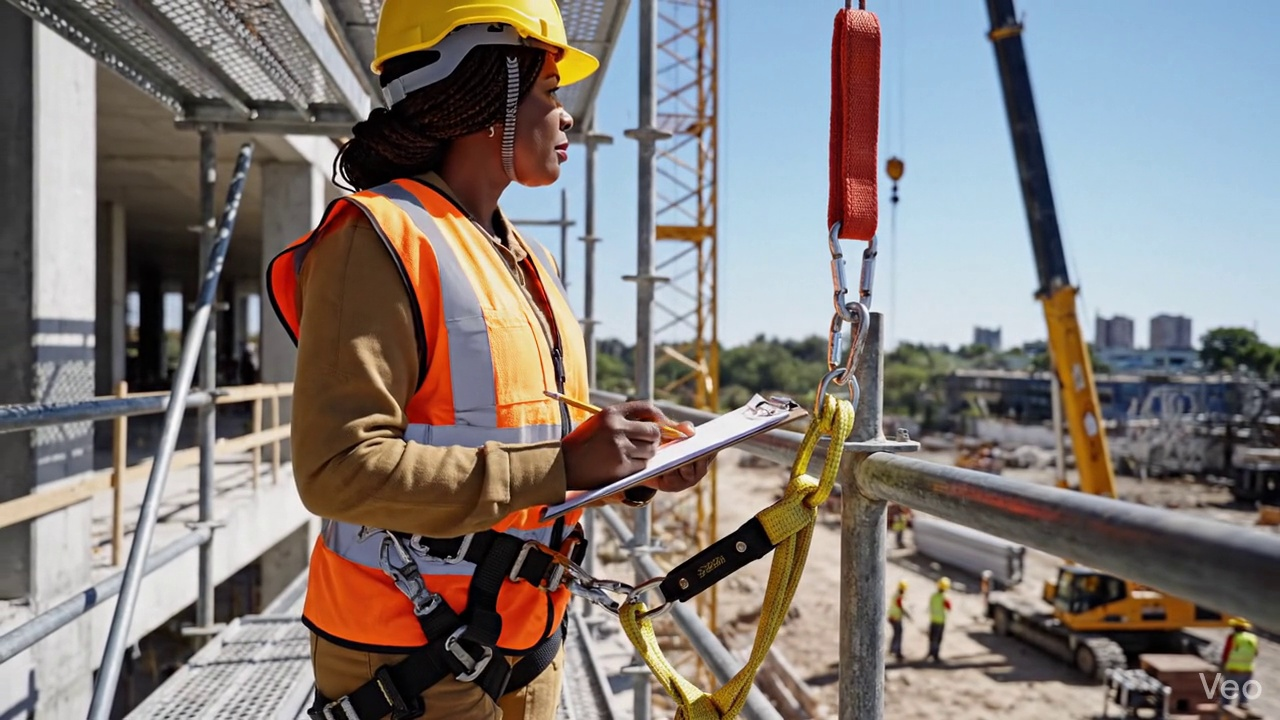p: (268, 0, 666, 719), (653, 460, 706, 490), (622, 486, 654, 505), (679, 425, 685, 428), (668, 425, 674, 427)
